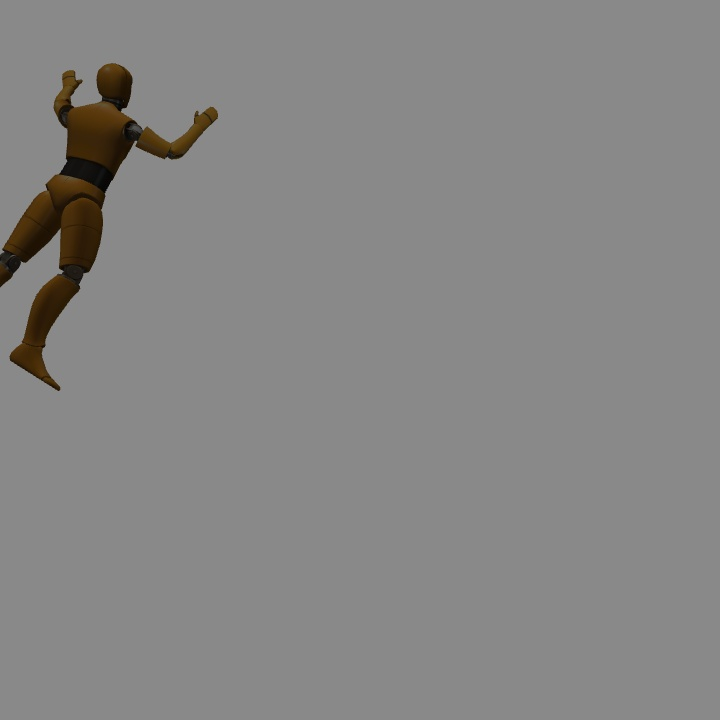victim: (1, 66, 136, 388)
